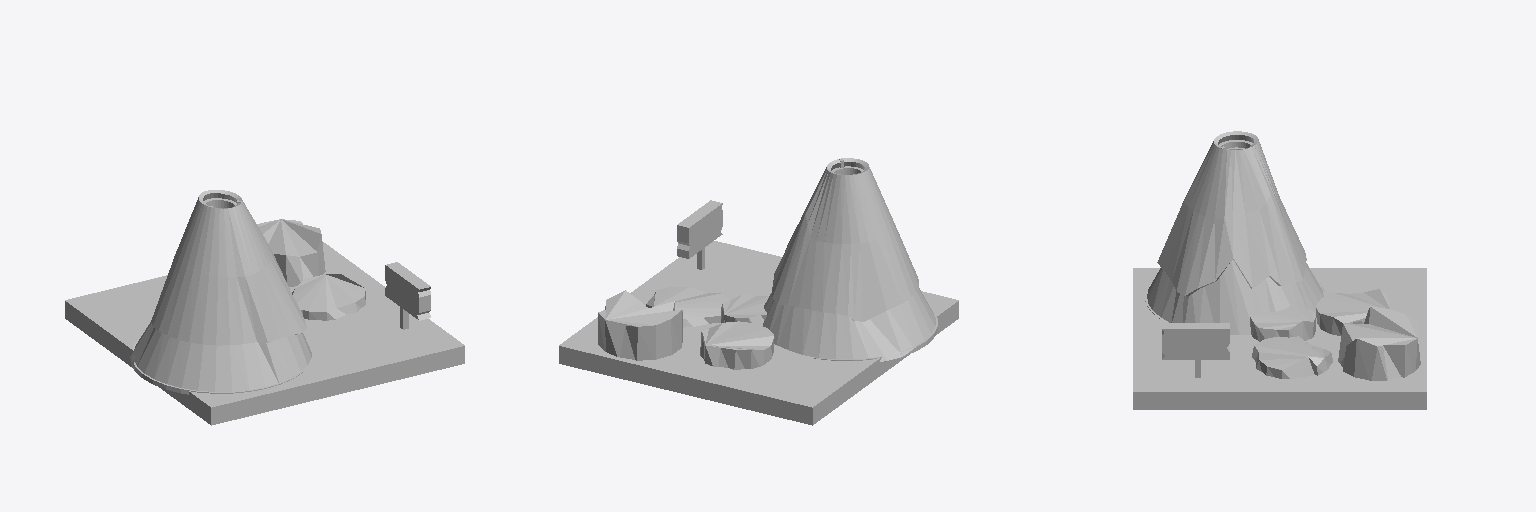
Rendered from entornoLava.obj.
3 views of the same model, side by side, from view 1: azimuth 30°, elevation 25°; view 2: azimuth 150°, elevation 25°; view 3: azimuth 270°, elevation 25° (orthographic).
Parts seen in each view (by area): view 1: Cube, Cylinder.005, Cylinder.006, Cylinder.004, Cylinder.001, Cube.001; view 2: Cube, Cylinder.005, Cylinder.006, Cylinder.004, Cylinder.002, Cube.001, Cylinder.001, Cylinder.003; view 3: Cube, Cylinder.005, Cylinder.006, Cylinder.004, Cylinder.001, Cube.001, Cylinder.002, Cylinder.003.
Boxes of the visible parts, box(x1,y1,x2,y2) form: Cube: box(65, 241, 464, 425); Cylinder.005: box(130, 190, 306, 394); Cylinder.006: box(131, 322, 311, 391); Cylinder.004: box(257, 219, 325, 286); Cylinder.001: box(292, 274, 365, 320); Cube.001: box(385, 262, 430, 329); Cube: box(559, 241, 958, 425); Cylinder.005: box(772, 158, 937, 360); Cylinder.006: box(763, 287, 935, 361); Cylinder.004: box(598, 290, 682, 360); Cylinder.002: box(700, 321, 774, 369); Cube.001: box(677, 200, 722, 269); Cylinder.001: box(646, 287, 728, 327); Cylinder.003: box(721, 294, 768, 325); Cube: box(1133, 268, 1426, 409); Cylinder.005: box(1144, 131, 1325, 321); Cylinder.006: box(1147, 263, 1323, 334); Cylinder.004: box(1338, 306, 1420, 380); Cylinder.001: box(1252, 336, 1332, 378); Cube.001: box(1162, 323, 1229, 377); Cylinder.002: box(1316, 289, 1389, 335); Cylinder.003: box(1250, 306, 1315, 341).
Bounding box in the file's own units: 12.22 × 7.55 × 11.41.